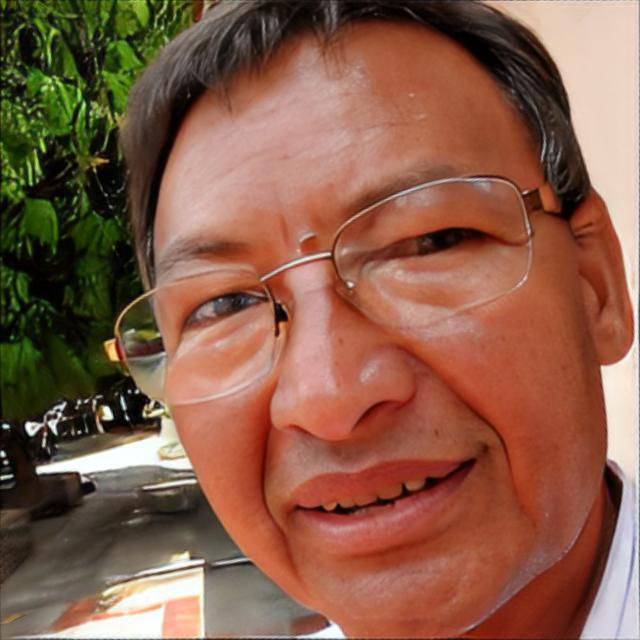disgust: (150, 19, 608, 640)
